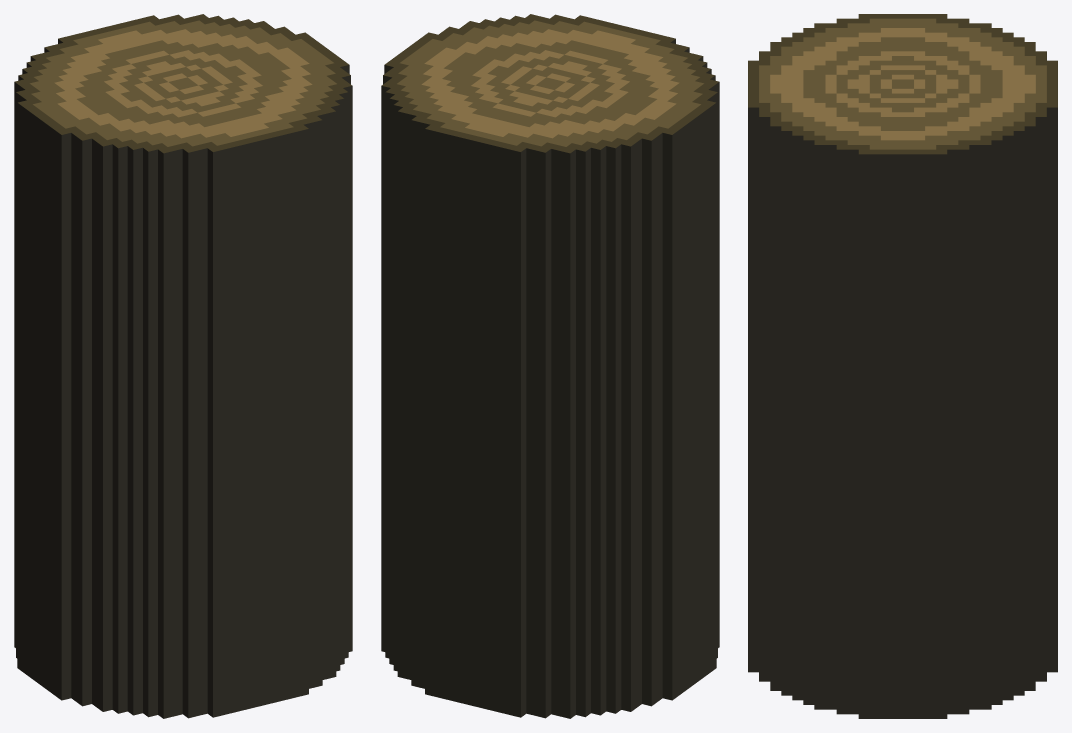
The model's file is wood1.glb.
3 renders of one model, left to right at view 1: azimuth 30°, elevation 25°; view 2: azimuth 150°, elevation 25°; view 3: azimuth 270°, elevation 25°, orthographic.
Parts seen in each view (by area): view 1: wood1-1; view 2: wood1-1; view 3: wood1-1.
Part boxes in pixels (x1=…): wood1-1: x1=14, y1=14, x2=352, y2=718; wood1-1: x1=381, y1=14, x2=719, y2=718; wood1-1: x1=748, y1=14, x2=1057, y2=718.
Size of the model in its own units: 0.9375 by 1.76 by 0.875.
2 materials, 1 textured.
